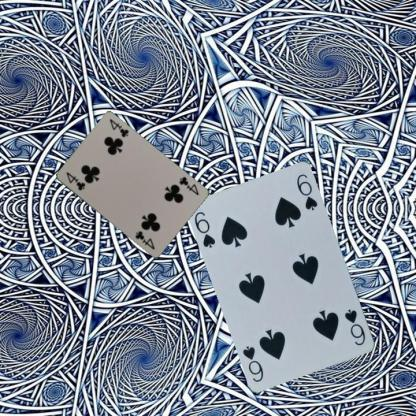4c: (63, 169, 87, 192), (176, 174, 200, 196)
6s: (342, 306, 367, 347), (192, 209, 217, 250)
